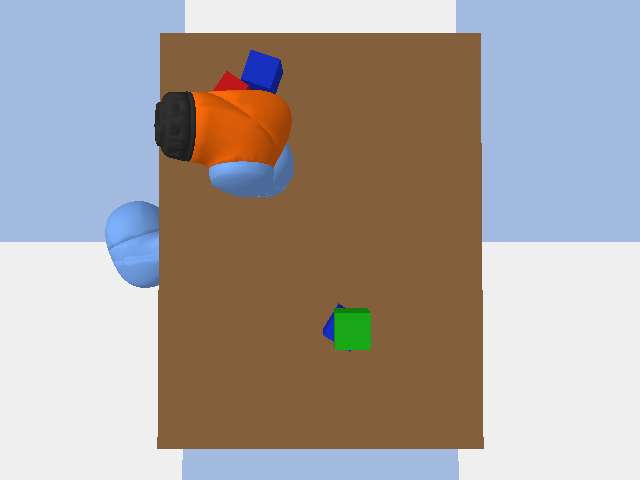blue_obj: (241, 50, 282, 93), (323, 303, 350, 351)
green_obj: (334, 308, 370, 349)
red_obj: (213, 71, 250, 90)
